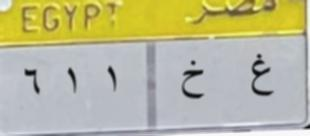1: (100, 64, 121, 96), (65, 65, 81, 99)
6: (20, 63, 43, 98)
ghayn: (247, 48, 275, 103)
khaa: (175, 59, 208, 103)
